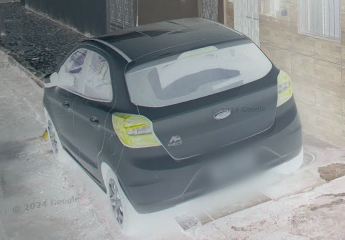car: (39, 17, 311, 229)
